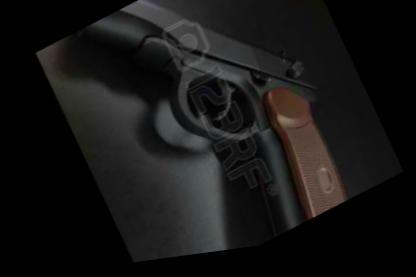pistol: (68, 0, 368, 268)
